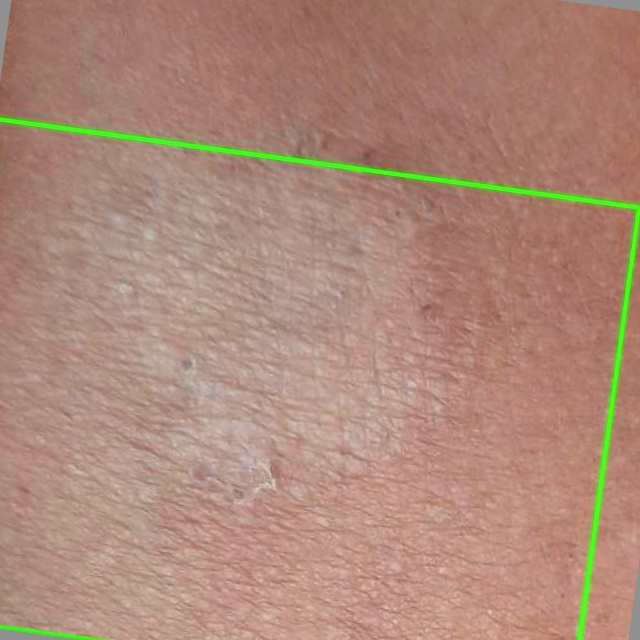Tinea Corporis: (0, 119, 638, 639)
